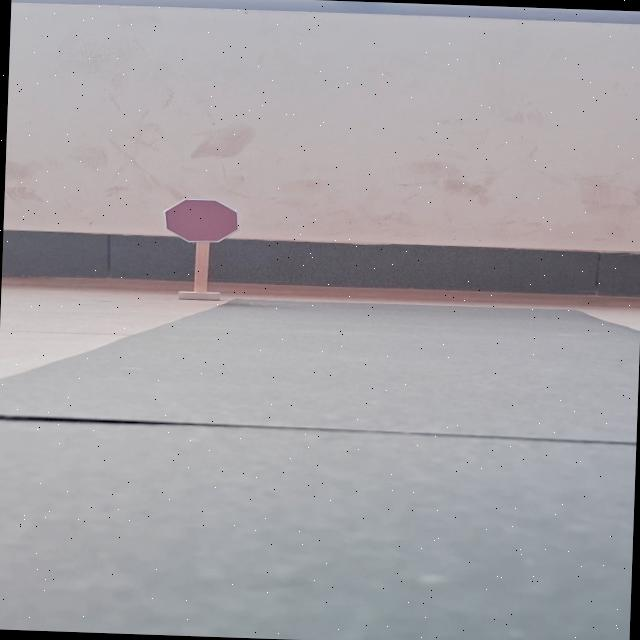Stop: (162, 198, 240, 245)
